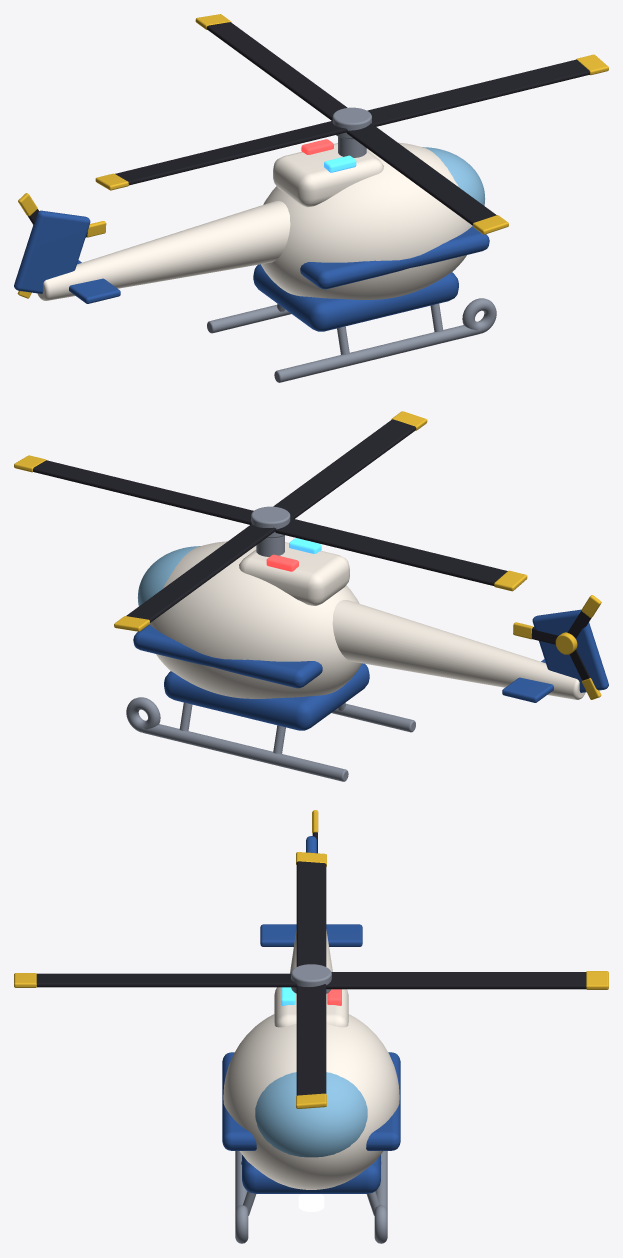
The model's file is heli.glb.
The picture shows the model from 3 angles, top to bottom: view 1: azimuth 30°, elevation 25°; view 2: azimuth 150°, elevation 25°; view 3: azimuth 270°, elevation 25°; orthographic projection. The views are drawn at different scales.
Parts seen in each view (by area): view 1: heli.006, rotor.006, tail_rotor.006; view 2: heli.006, rotor.006, tail_rotor.006; view 3: heli.006, rotor.006.
Boxes of the visible parts, x1=… form: heli.006: x1=14, y1=136, x2=496, y2=382; rotor.006: x1=95, y1=14, x2=608, y2=234; tail_rotor.006: x1=17, y1=193, x2=106, y2=298; heli.006: x1=126, y1=535, x2=608, y2=781; rotor.006: x1=14, y1=411, x2=527, y2=631; tail_rotor.006: x1=513, y1=595, x2=601, y2=699; heli.006: x1=222, y1=836, x2=400, y2=1243; rotor.006: x1=14, y1=852, x2=608, y2=1108.
Bounding box in the file's own units: 7.53 × 2.65 × 6.41.
1 material, 1 textured.
